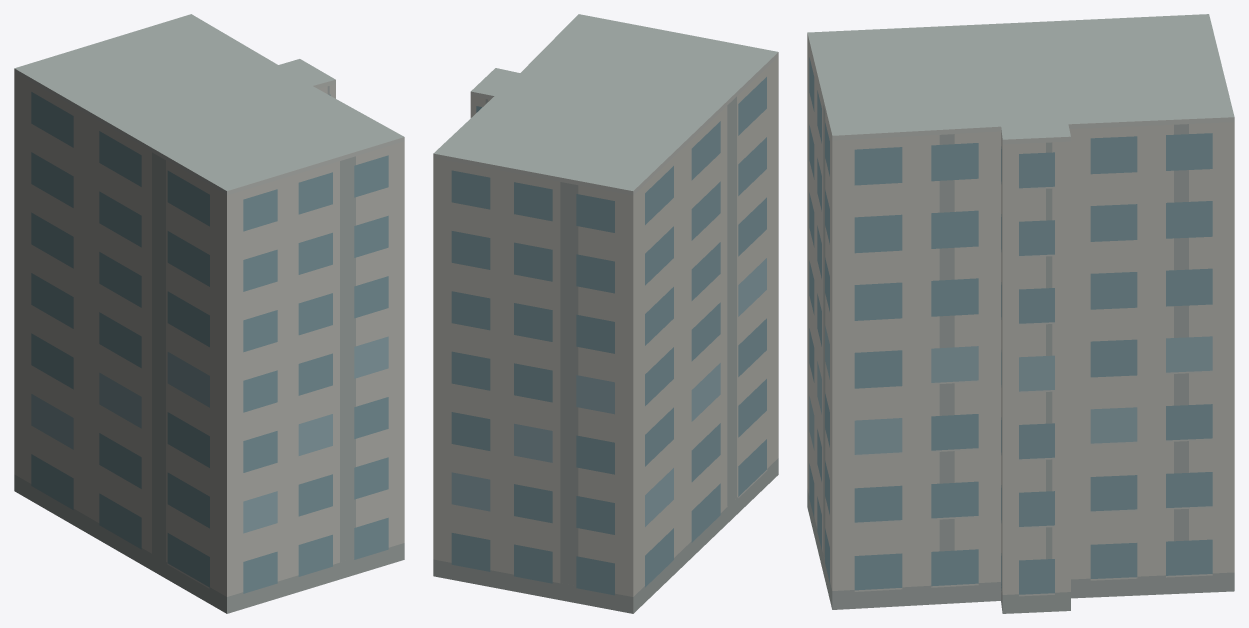
The model's file is survey-upis-32950977.glb.
3 renders of one model, left to right at view 1: azimuth 30°, elevation 25°; view 2: azimuth 150°, elevation 25°; view 3: azimuth 270°, elevation 25°, orthographic. The views are drawn at different scales.
Parts seen in each view (by area): view 1: survey-upis-32950977.tmp; view 2: survey-upis-32950977.tmp; view 3: survey-upis-32950977.tmp.
Part boxes in pixels (x1,y1,x2,y2): survey-upis-32950977.tmp: (14, 14, 404, 613); survey-upis-32950977.tmp: (433, 14, 778, 613); survey-upis-32950977.tmp: (807, 14, 1234, 613).
Bounding box in the file's own units: 13.31 × 23.4 × 19.12.
